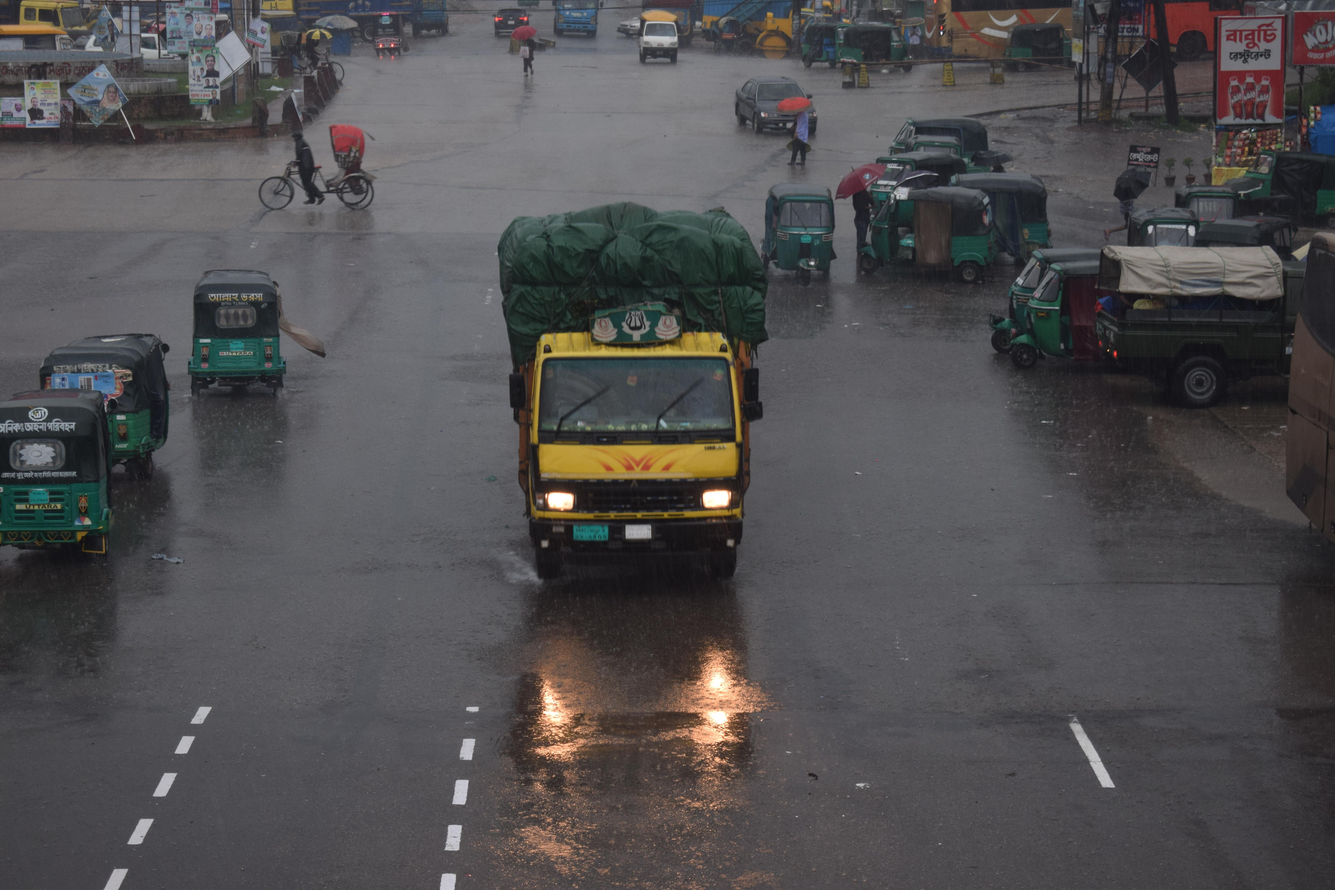Bus: (916, 0, 1335, 82)
Car: (238, 99, 420, 235), (713, 61, 823, 160), (613, 1, 700, 85)
Truck: (431, 160, 802, 652), (1080, 217, 1313, 439)
